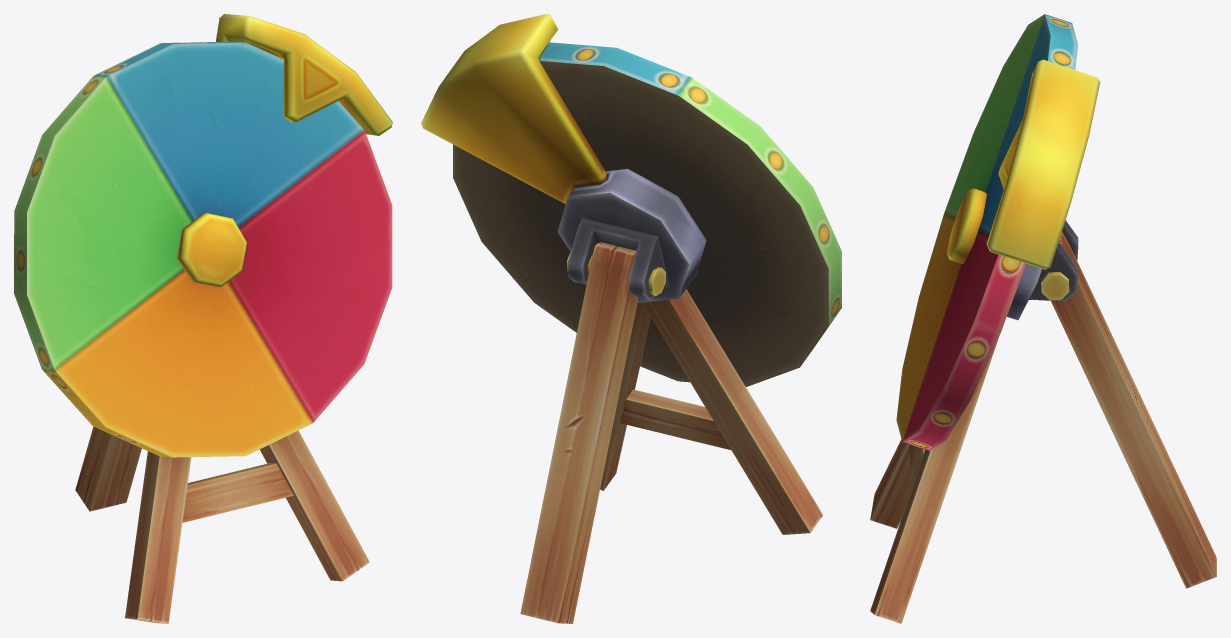
Rendered from SE_FortuneWheel_01.fbx.
The picture shows the model from 3 angles, left to right: view 1: azimuth 30°, elevation 25°; view 2: azimuth 150°, elevation 25°; view 3: azimuth 270°, elevation 25°; orthographic projection. The views are drawn at different scales.
Visible parts, largest first — view 1: SE_FortuneWheel_01; view 2: SE_FortuneWheel_01; view 3: SE_FortuneWheel_01.
Boxes of the visible parts, x1,y1,x2,y2 form: SE_FortuneWheel_01: (14, 14, 392, 623); SE_FortuneWheel_01: (421, 14, 841, 623); SE_FortuneWheel_01: (870, 14, 1216, 623).
Bounding box in the file's own units: 5.32 × 7.08 × 3.98.
